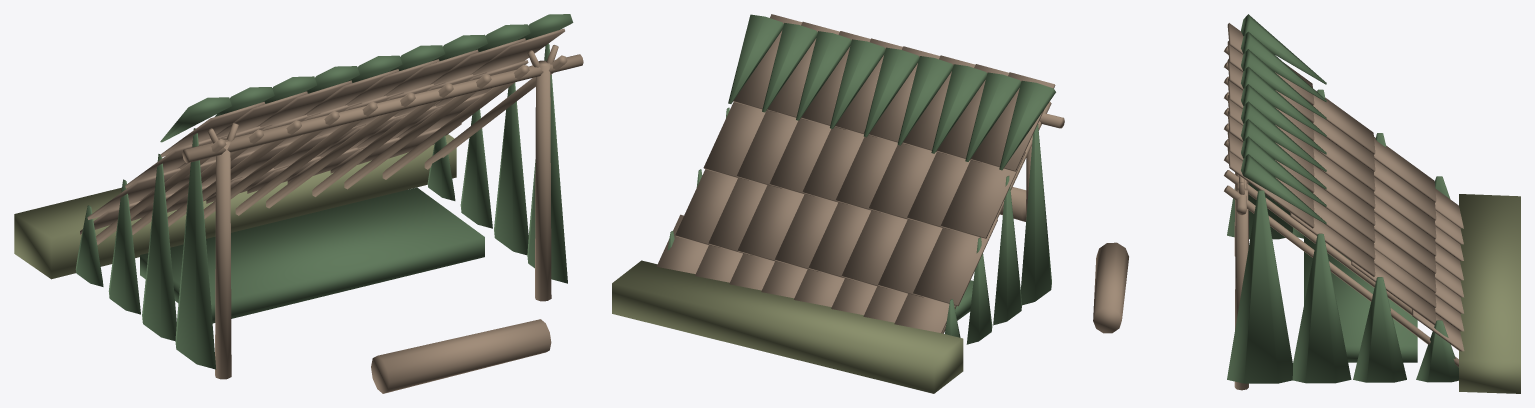
Rendered from hiis_keeper_leanto.glb.
The picture shows the model from 3 angles, left to right: view 1: azimuth 30°, elevation 25°; view 2: azimuth 150°, elevation 25°; view 3: azimuth 270°, elevation 25°; orthographic projection. The views are drawn at different scales.
Visible parts, largest first — view 1: hiis_keeper_leanto; view 2: hiis_keeper_leanto; view 3: hiis_keeper_leanto.
Boxes of the visible parts, x1,y1,x2,y2 form: hiis_keeper_leanto: [14, 14, 583, 393]; hiis_keeper_leanto: [612, 14, 1064, 393]; hiis_keeper_leanto: [1093, 14, 1520, 393].
Size of the model in its own units: 3.8 by 2.48 by 4.14.
